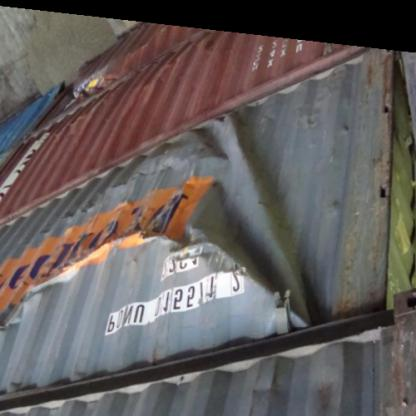Damage: (9, 218, 226, 310), (186, 100, 300, 236), (213, 226, 322, 330)
